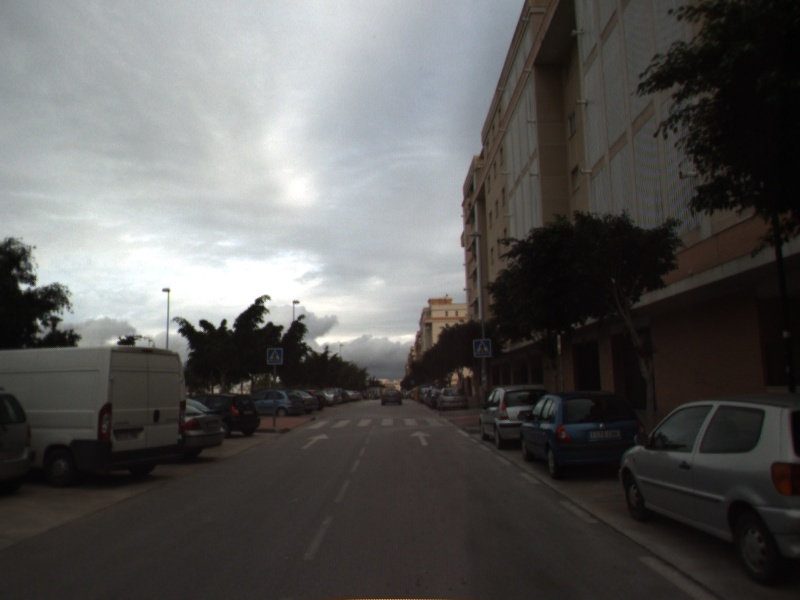STRAIGHT: (299, 432, 331, 451), (408, 429, 434, 447)
